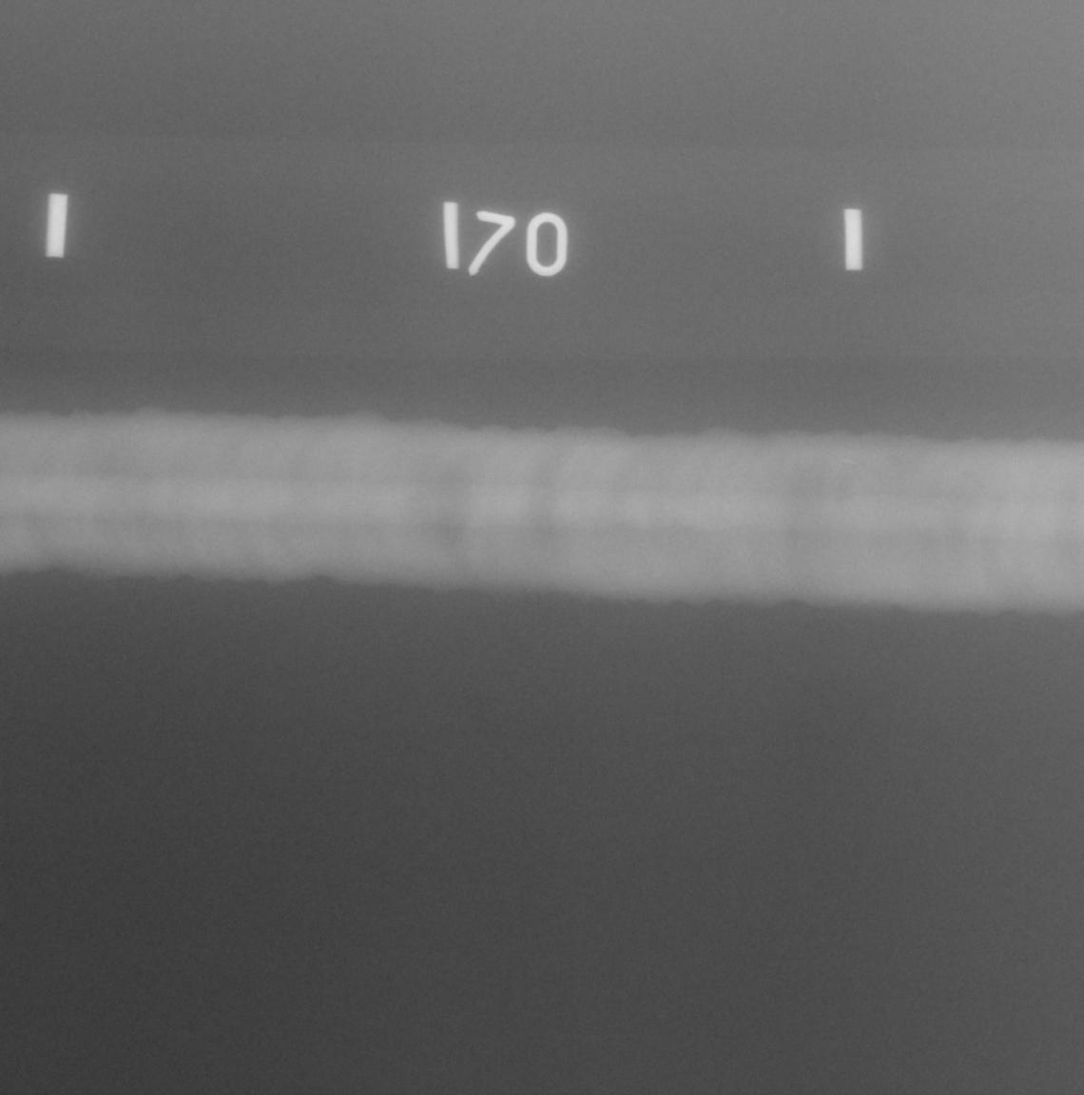Pore/Porosity: (144, 473, 152, 481)
